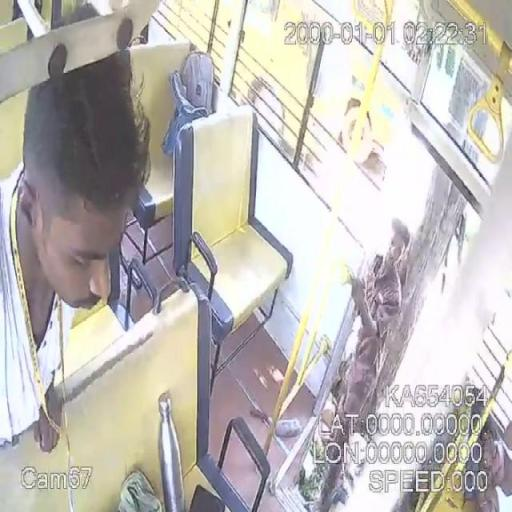persona: (1, 38, 153, 453)
